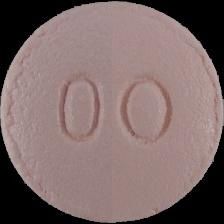0093-5732: (0, 0, 224, 224)
